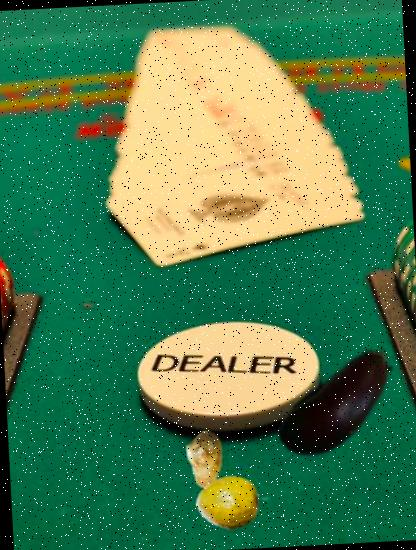Eggplant: (265, 329, 416, 481)
Ginger: (174, 429, 235, 490)
Guava: (195, 470, 262, 537)
